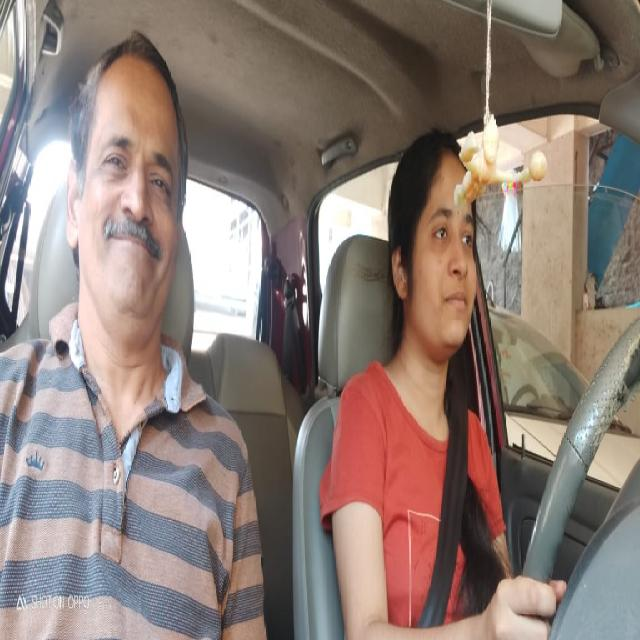person: (71, 48, 187, 318)
